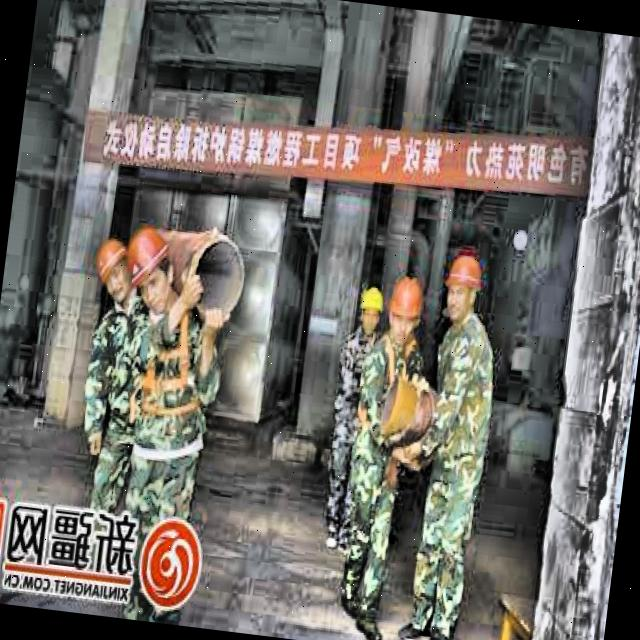helmet: (118, 223, 178, 312), (438, 251, 486, 324), (86, 232, 132, 300), (385, 275, 427, 347), (358, 280, 383, 334)
